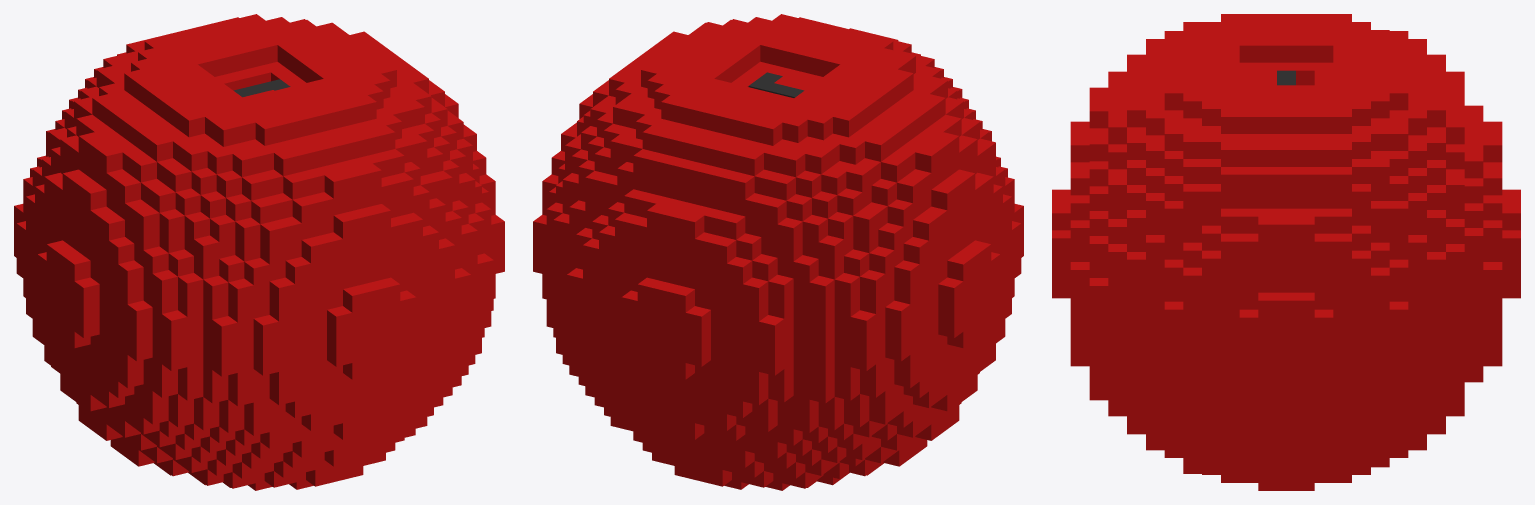
Rendered from Apple-1.obj.
3 views of the same model, side by side, from view 1: azimuth 30°, elevation 25°; view 2: azimuth 150°, elevation 25°; view 3: azimuth 270°, elevation 25° (orthographic).
Size of the model in its own units: 2.5 by 2.2 by 2.5.
Materials: 1 (1 with a texture image).
